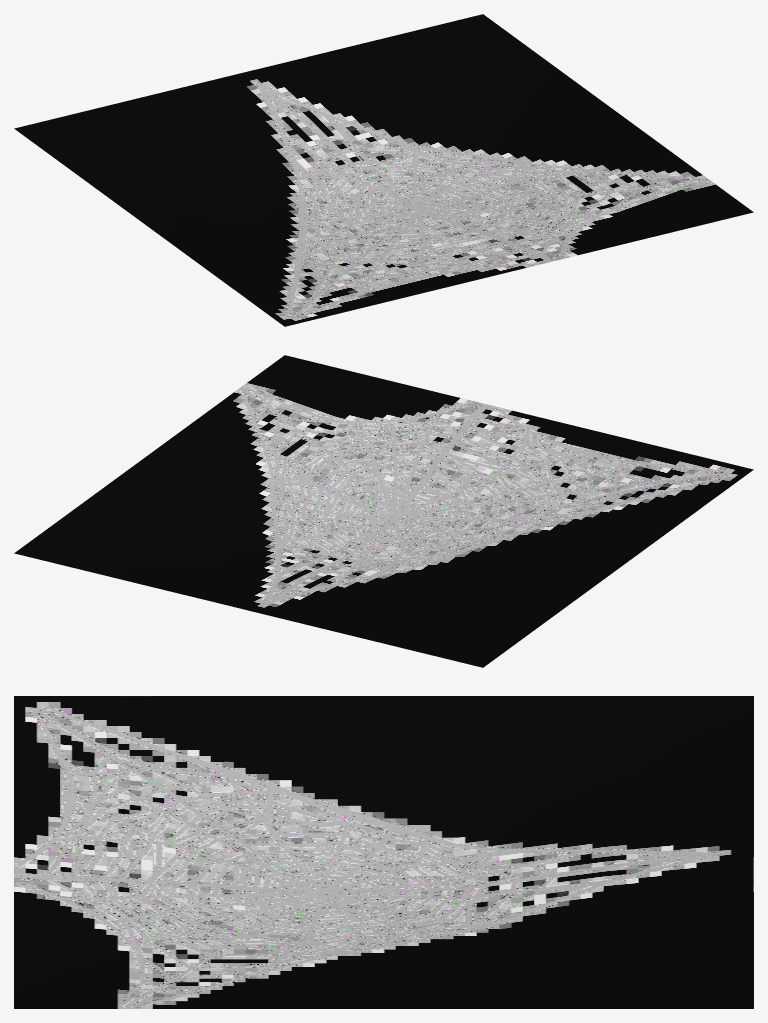
File: SpiderWebNest_10-transformed.glb
3 views of the same model, one above another, from view 1: azimuth 30°, elevation 25°; view 2: azimuth 150°, elevation 25°; view 3: azimuth 270°, elevation 25° (orthographic). The views are drawn at different scales.
Visible parts, largest first — view 1: default; view 2: default; view 3: default.
Boxes of the visible parts, x1,y1,x2,y2 form: default: (14, 14, 753, 326); default: (14, 355, 753, 667); default: (14, 696, 753, 1008).
Size of the model in its own units: 1.99 by 0.0984 by 1.99.
Materials: 1 (1 with a texture image).
